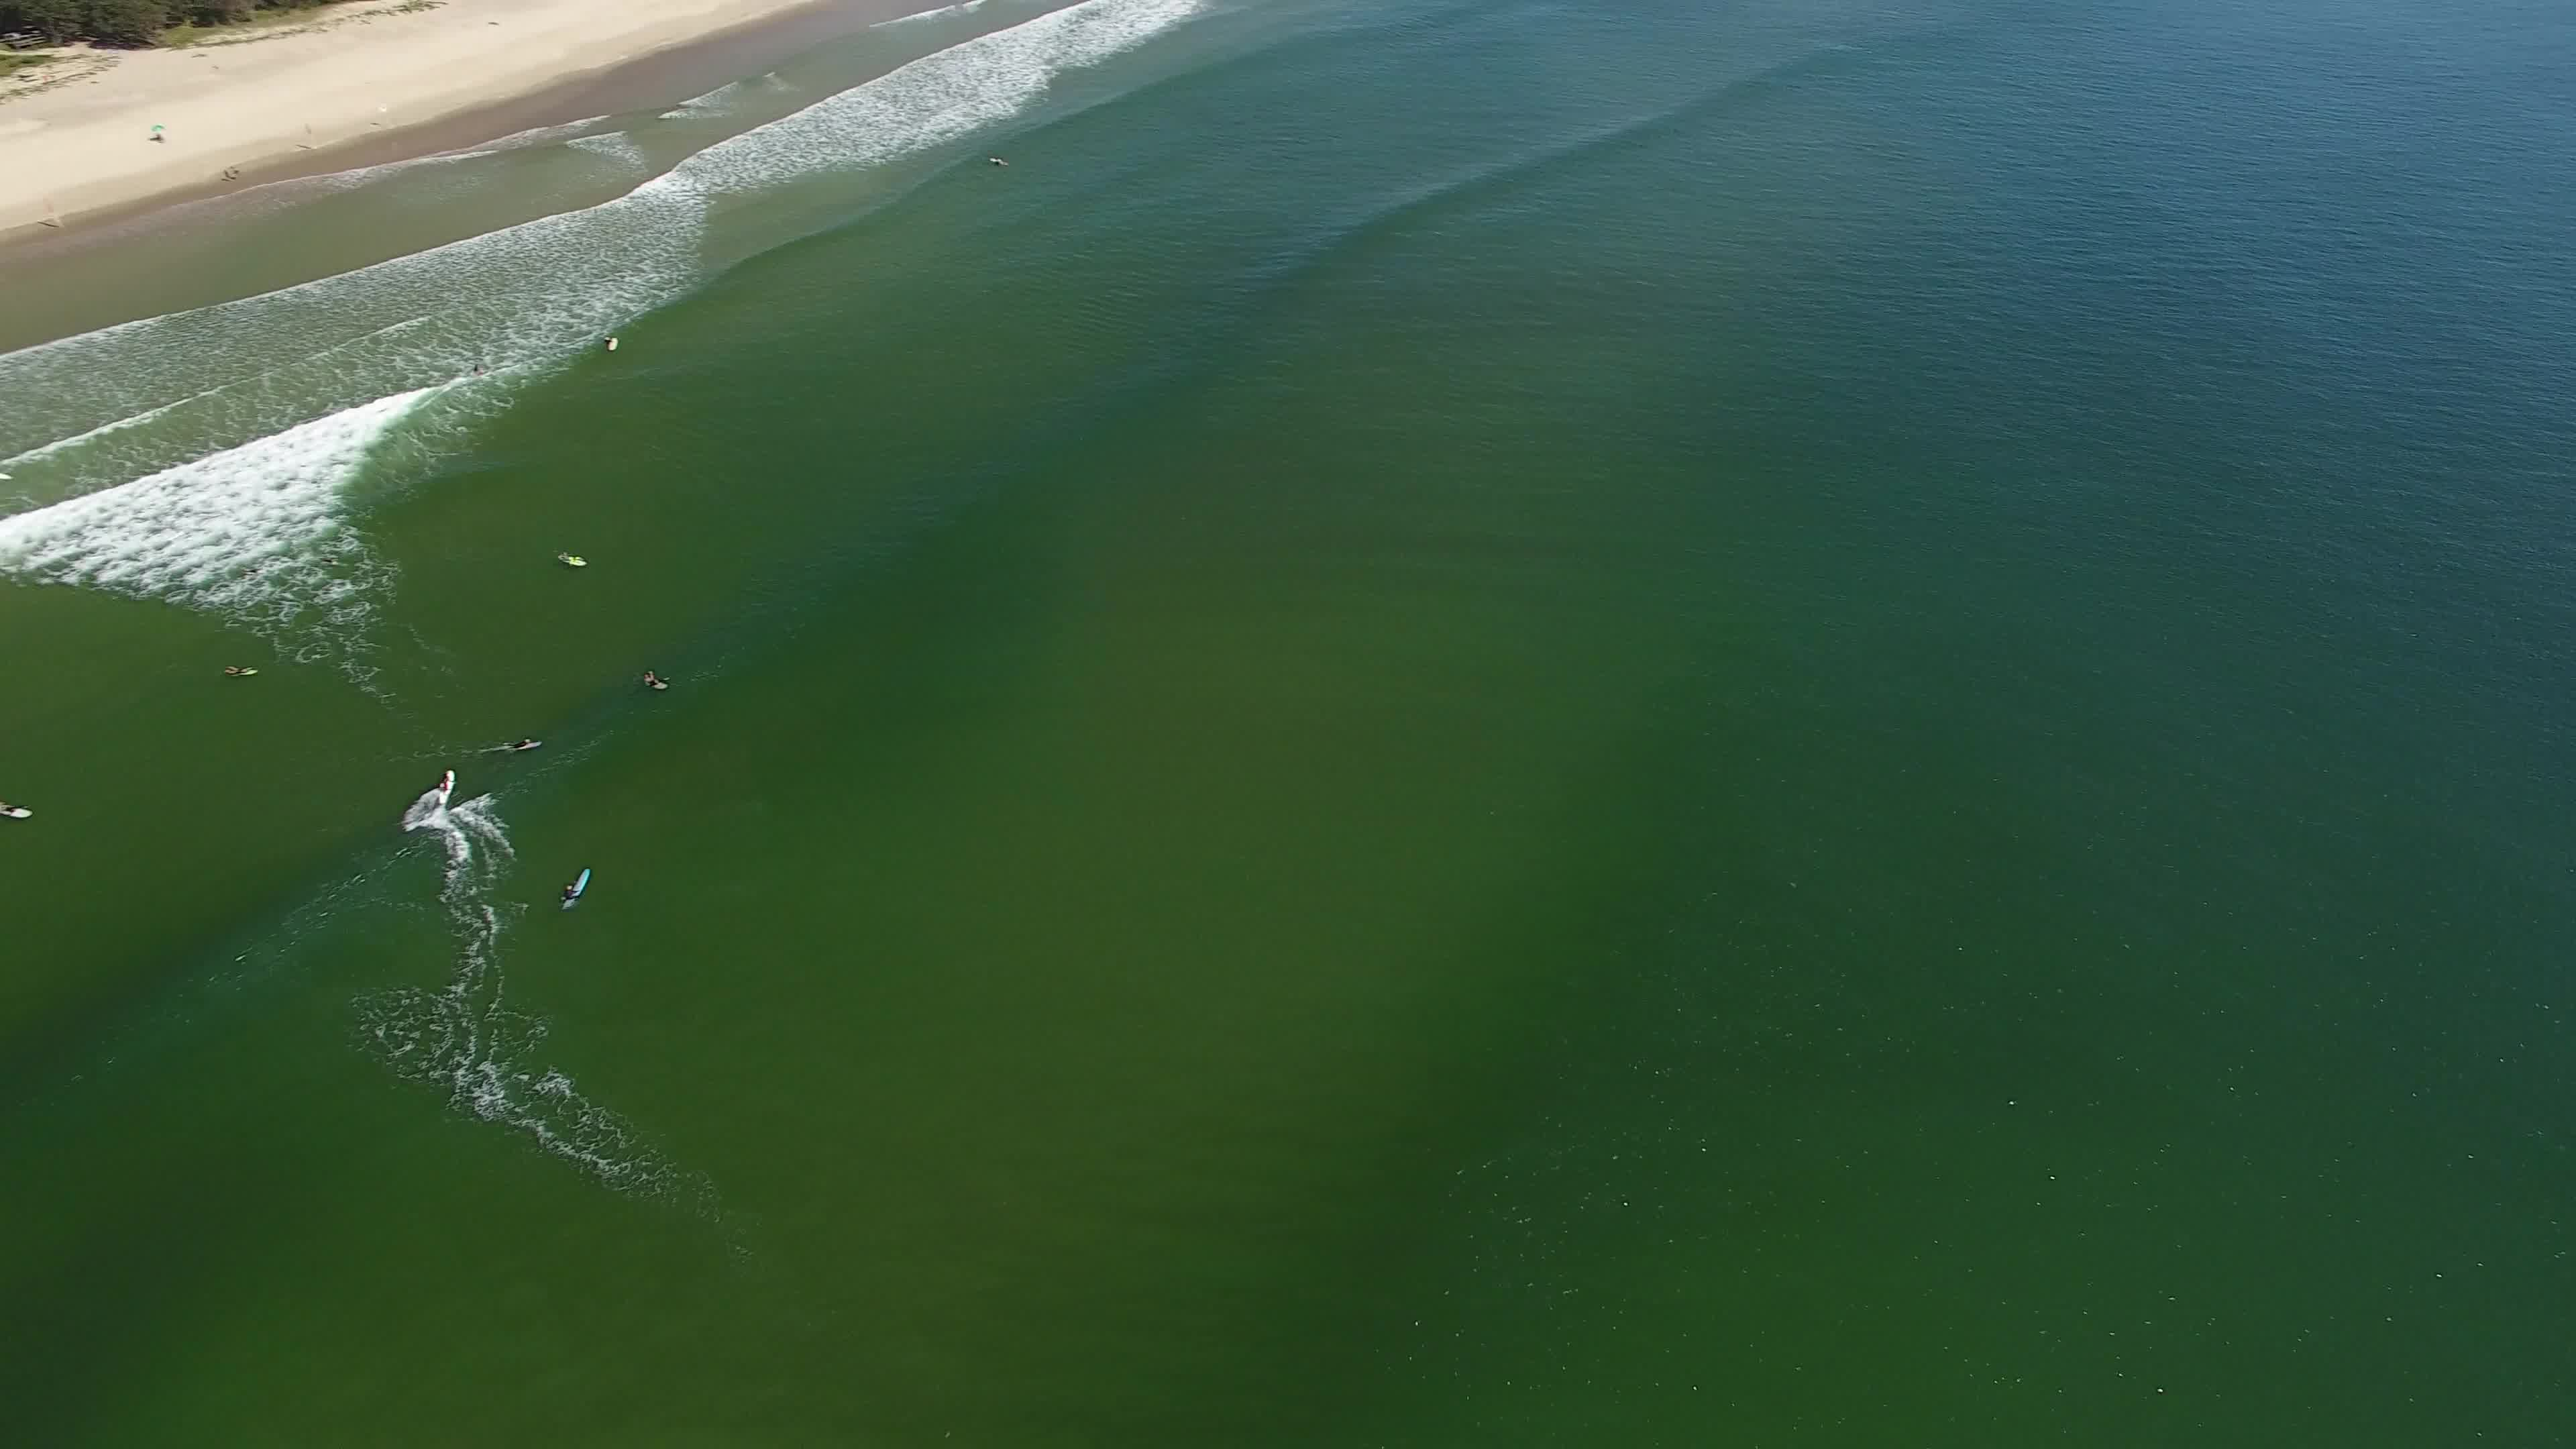surfer: (552, 860, 602, 920), (633, 663, 679, 695), (494, 736, 552, 761), (219, 655, 267, 683), (982, 147, 1030, 173), (552, 543, 591, 575), (593, 333, 633, 357), (0, 805, 42, 828)
